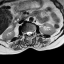CCS_normal: (28, 29, 30, 38)
LFS_normal: (32, 29, 34, 36)
LLS_normal: (30, 29, 32, 36)
RFS_normal: (24, 29, 26, 36)
RLS_normal: (26, 29, 28, 36)
